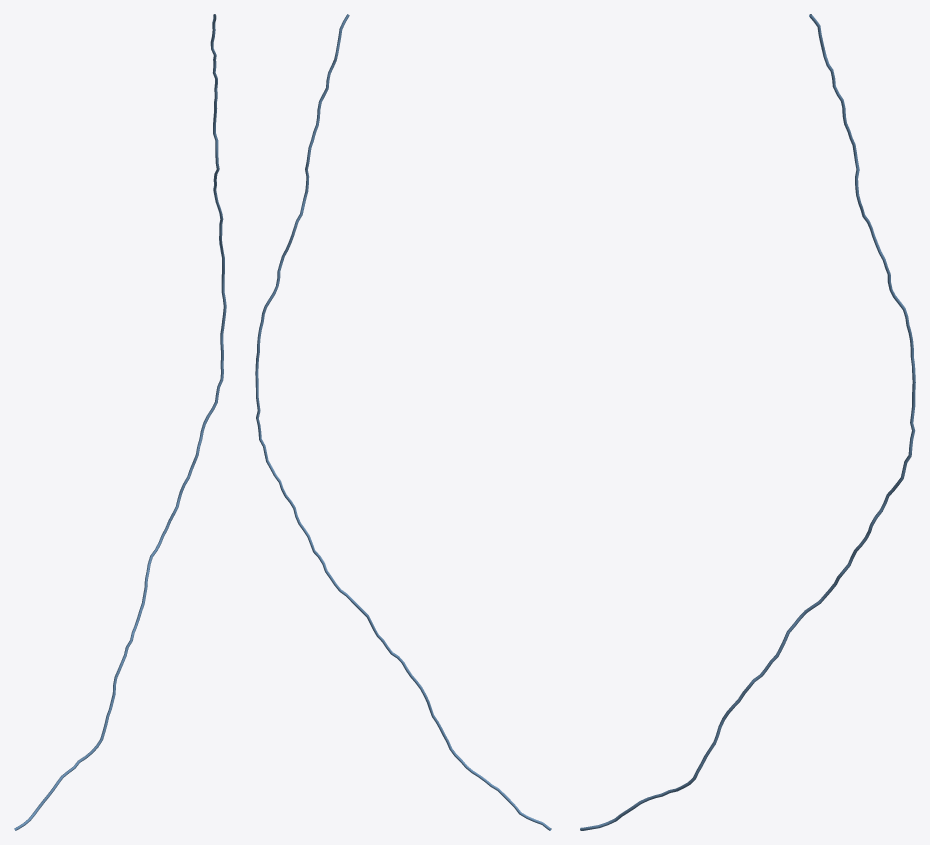
Rendered from sweep104.fbx.
The picture shows the model from 3 angles, left to right: view 1: azimuth 30°, elevation 25°; view 2: azimuth 150°, elevation 25°; view 3: azimuth 330°, elevation 25°; orthographic projection. The views are drawn at different scales.
Parts seen in each view (by area): view 1: sweep104; view 2: sweep104; view 3: sweep104.
Part boxes in pixels (x1,y1,x2,y2): sweep104: (14,14,226,830); sweep104: (255,14,551,830); sweep104: (580,14,915,830).
Bounding box in the file's own units: 1.93 × 5.6 × 0.5955.
